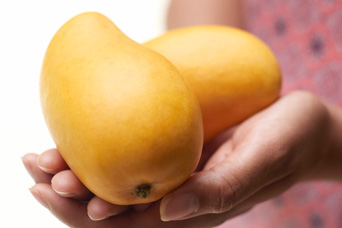mango: (31, 6, 205, 207), (178, 18, 282, 115)
